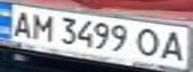3: (54, 15, 78, 46)
4: (75, 18, 93, 48)
9: (109, 21, 133, 54), (90, 20, 112, 51)
A: (157, 28, 190, 63), (6, 8, 36, 38)
M: (27, 11, 57, 43)
O: (133, 26, 163, 59)
